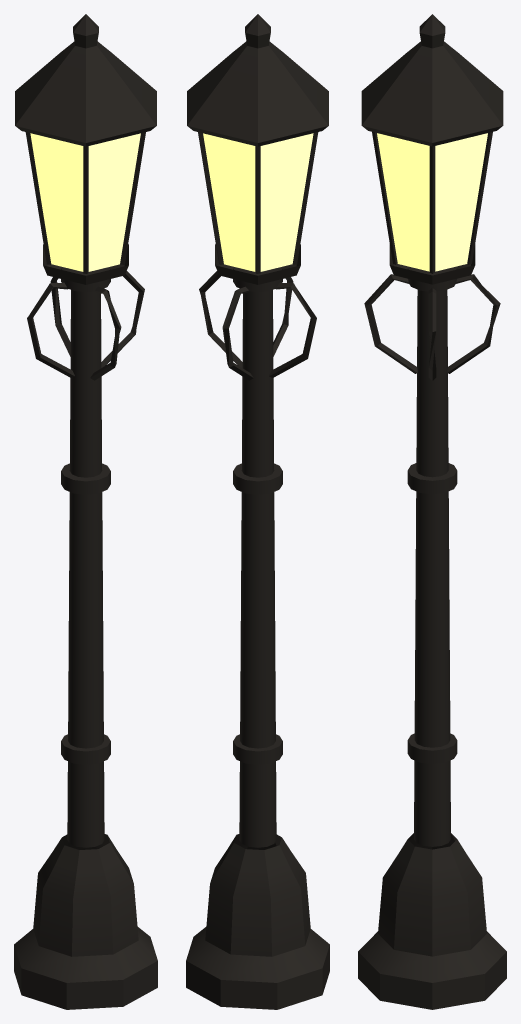
The picture shows the model from 3 angles, left to right: view 1: azimuth 30°, elevation 25°; view 2: azimuth 150°, elevation 25°; view 3: azimuth 270°, elevation 25°; orthographic projection.
Visible parts, largest first — view 1: lamp.lod0; view 2: lamp.lod0; view 3: lamp.lod0.
Boxes of the visible parts, x1=… form: lamp.lod0: x1=14, y1=14, x2=157, y2=1009; lamp.lod0: x1=186, y1=14, x2=329, y2=1009; lamp.lod0: x1=358, y1=14, x2=506, y2=1009.
Bounding box in the file's own units: 0.6599 × 4.29 × 0.6002.
